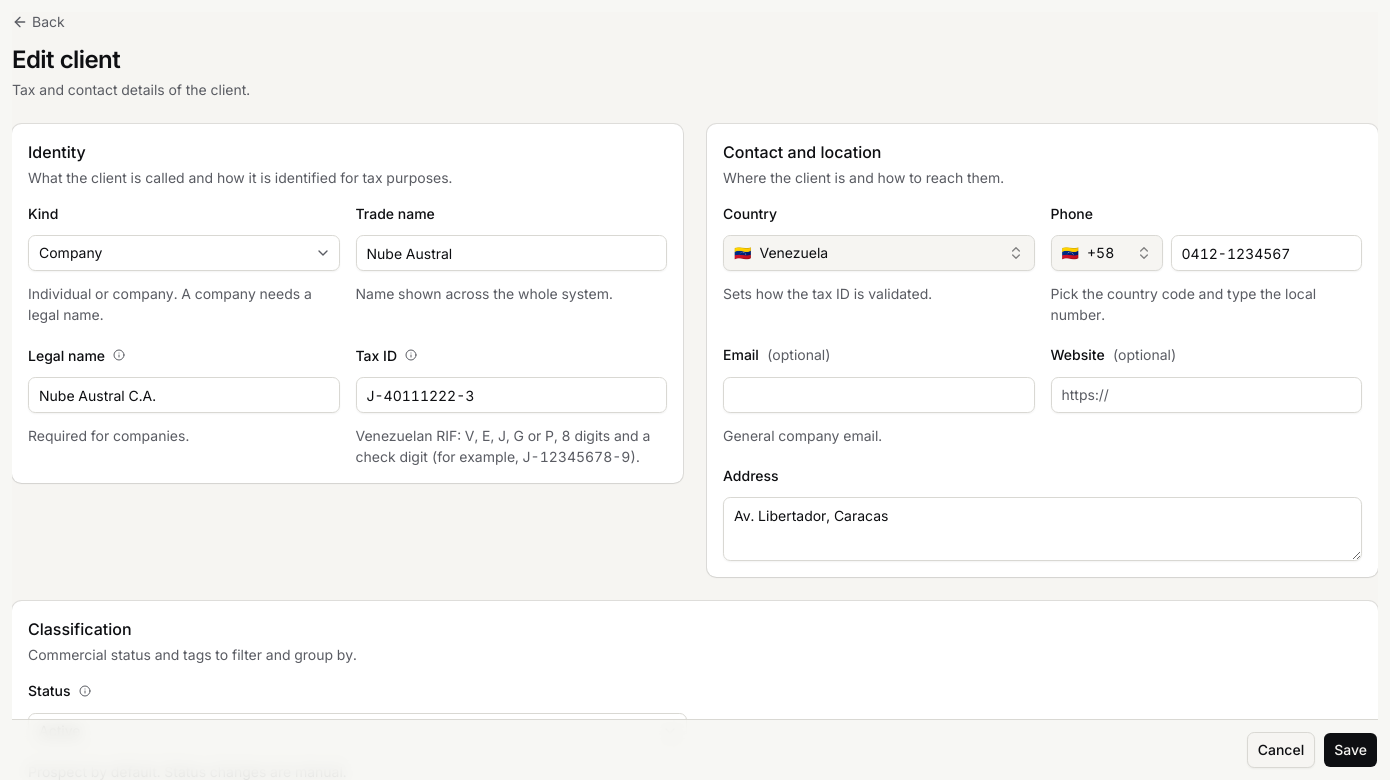
Scenario: ClientForm › links a CONFLICT on the tax id to the record that holds it (HU-03 CA3)
What coordinates should you click on to do the following:
click the button "Save"
I would click on:
 (1351, 750)
Its box is [1323, 732, 1378, 768].
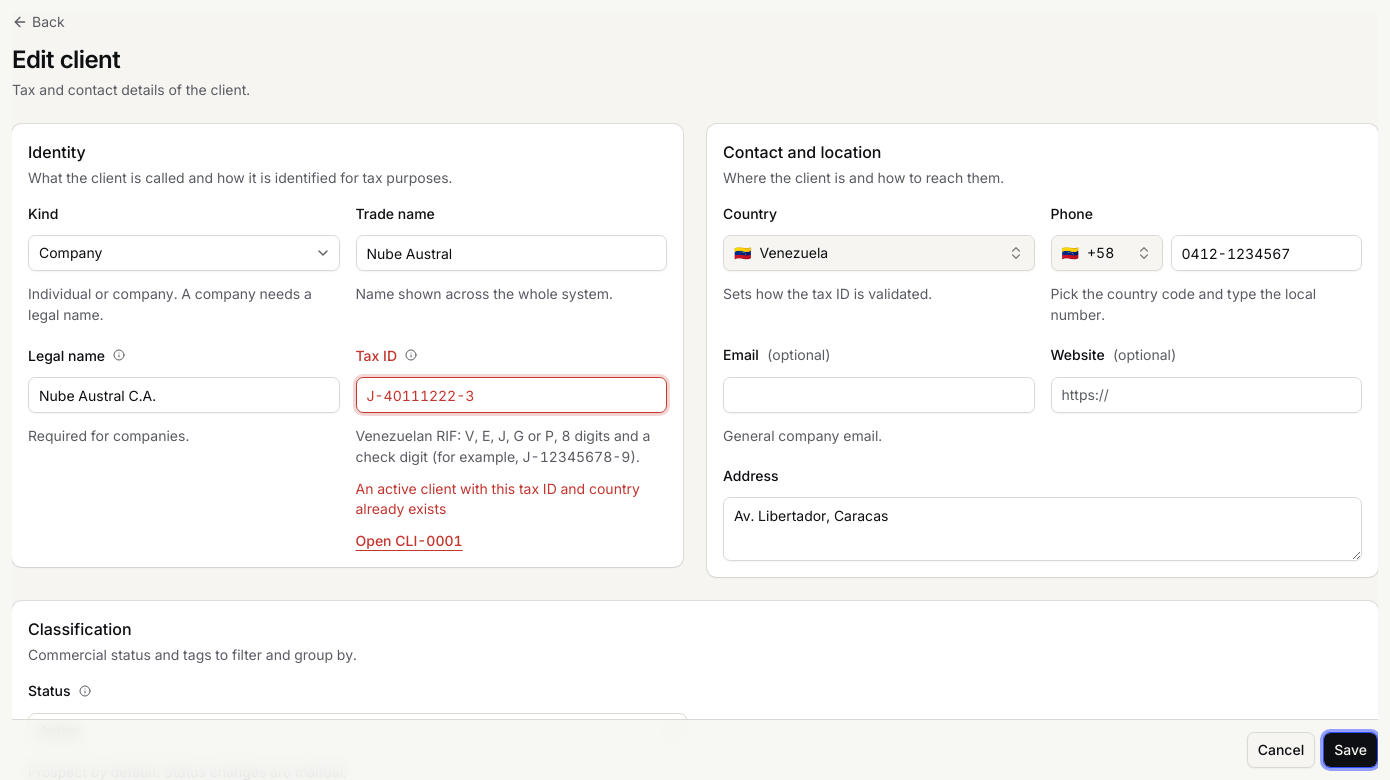
Expected: the text "An active client with this tax ID and country already exists" is shown, [356, 479, 667, 519]
